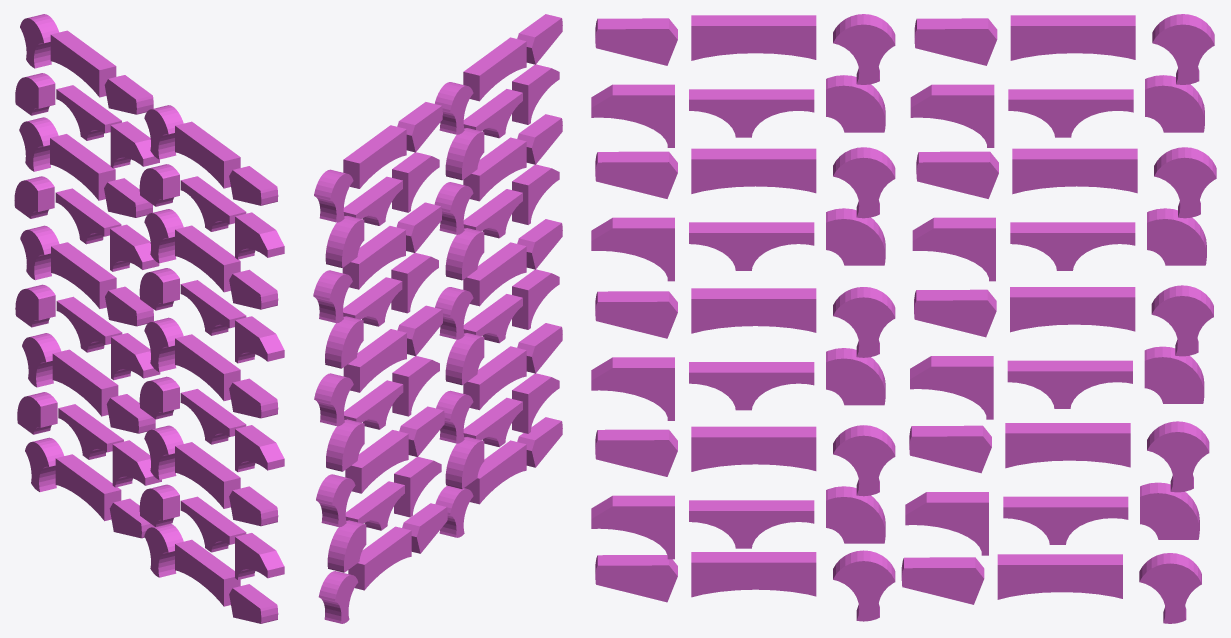
Rendered from fragmentacion.fbx.
3 renders of one model, left to right at view 1: azimuth 30°, elevation 25°; view 2: azimuth 150°, elevation 25°; view 3: azimuth 270°, elevation 25°, orthographic. The views are drawn at different scales.
Visible parts, largest first — view 1: Cube.001; view 2: Cube.001; view 3: Cube.001.
Boxes of the visible parts, x1,y1,x2,y2 form: Cube.001: (14, 14, 284, 623); Cube.001: (313, 14, 562, 623); Cube.001: (591, 14, 1216, 623).
Bounding box in the file's own units: 107 × 1585 × 1498.
